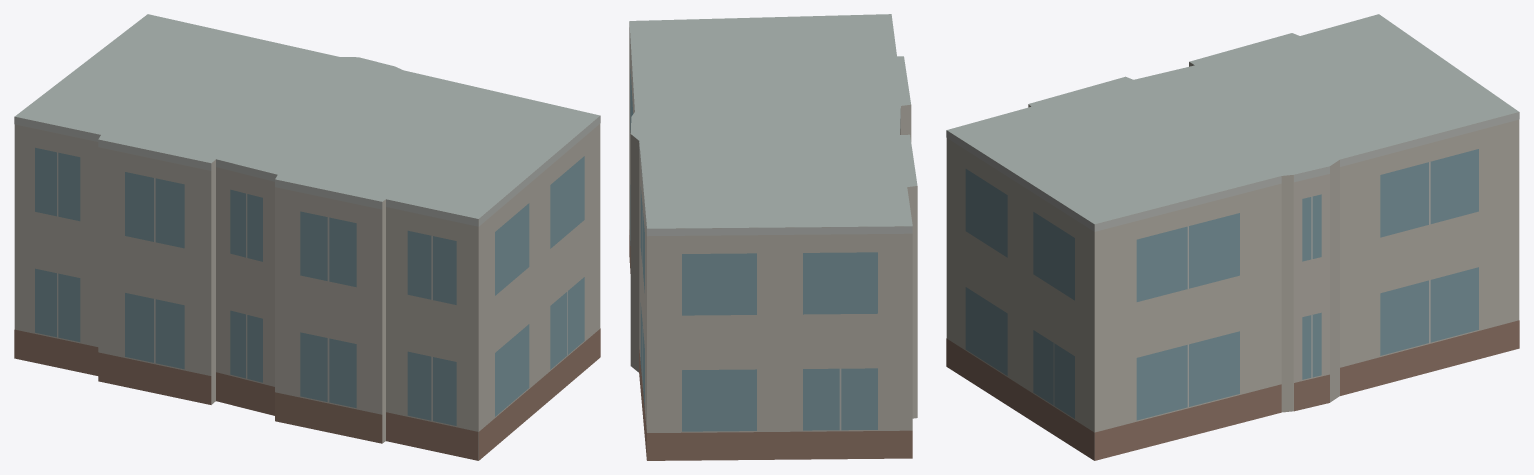
The model's file is survey-upis-32609995.glb.
3 renders of one model, left to right at view 1: azimuth 30°, elevation 25°; view 2: azimuth 150°, elevation 25°; view 3: azimuth 270°, elevation 25°, orthographic. The views are drawn at different scales.
Parts seen in each view (by area): view 1: survey-upis-32609995.tmp; view 2: survey-upis-32609995.tmp; view 3: survey-upis-32609995.tmp.
Part boxes in pixels (x1,y1,x2,y2): survey-upis-32609995.tmp: [14, 14, 600, 460]; survey-upis-32609995.tmp: [629, 14, 917, 460]; survey-upis-32609995.tmp: [946, 14, 1519, 460].
Bounding box in the file's own units: 14.5 × 7.6 × 16.69.
